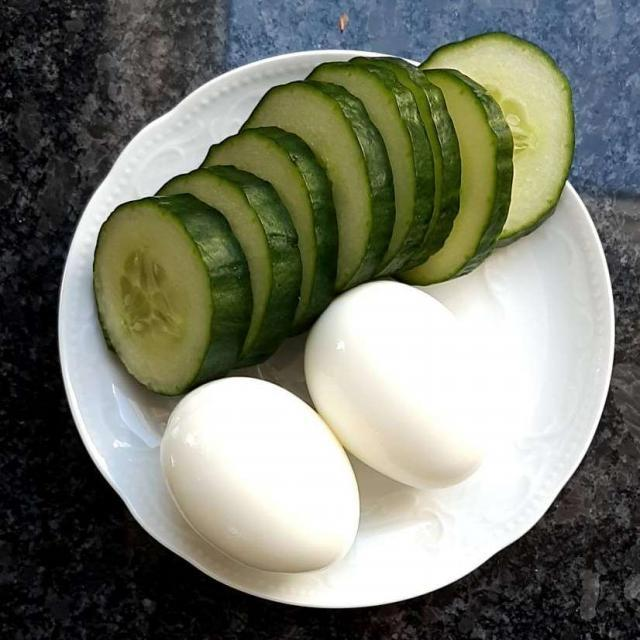cucumber: (115, 42, 561, 381)
egg: (160, 274, 483, 567)
